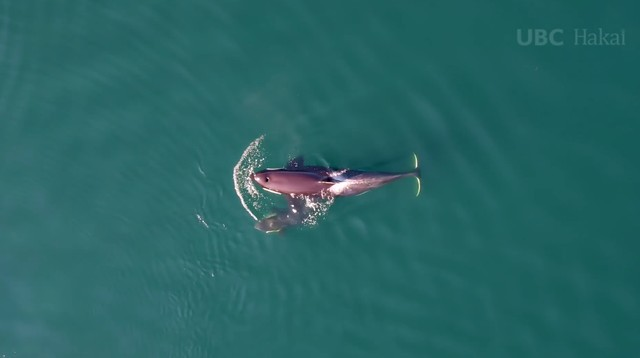whale: (239, 149, 427, 214)
